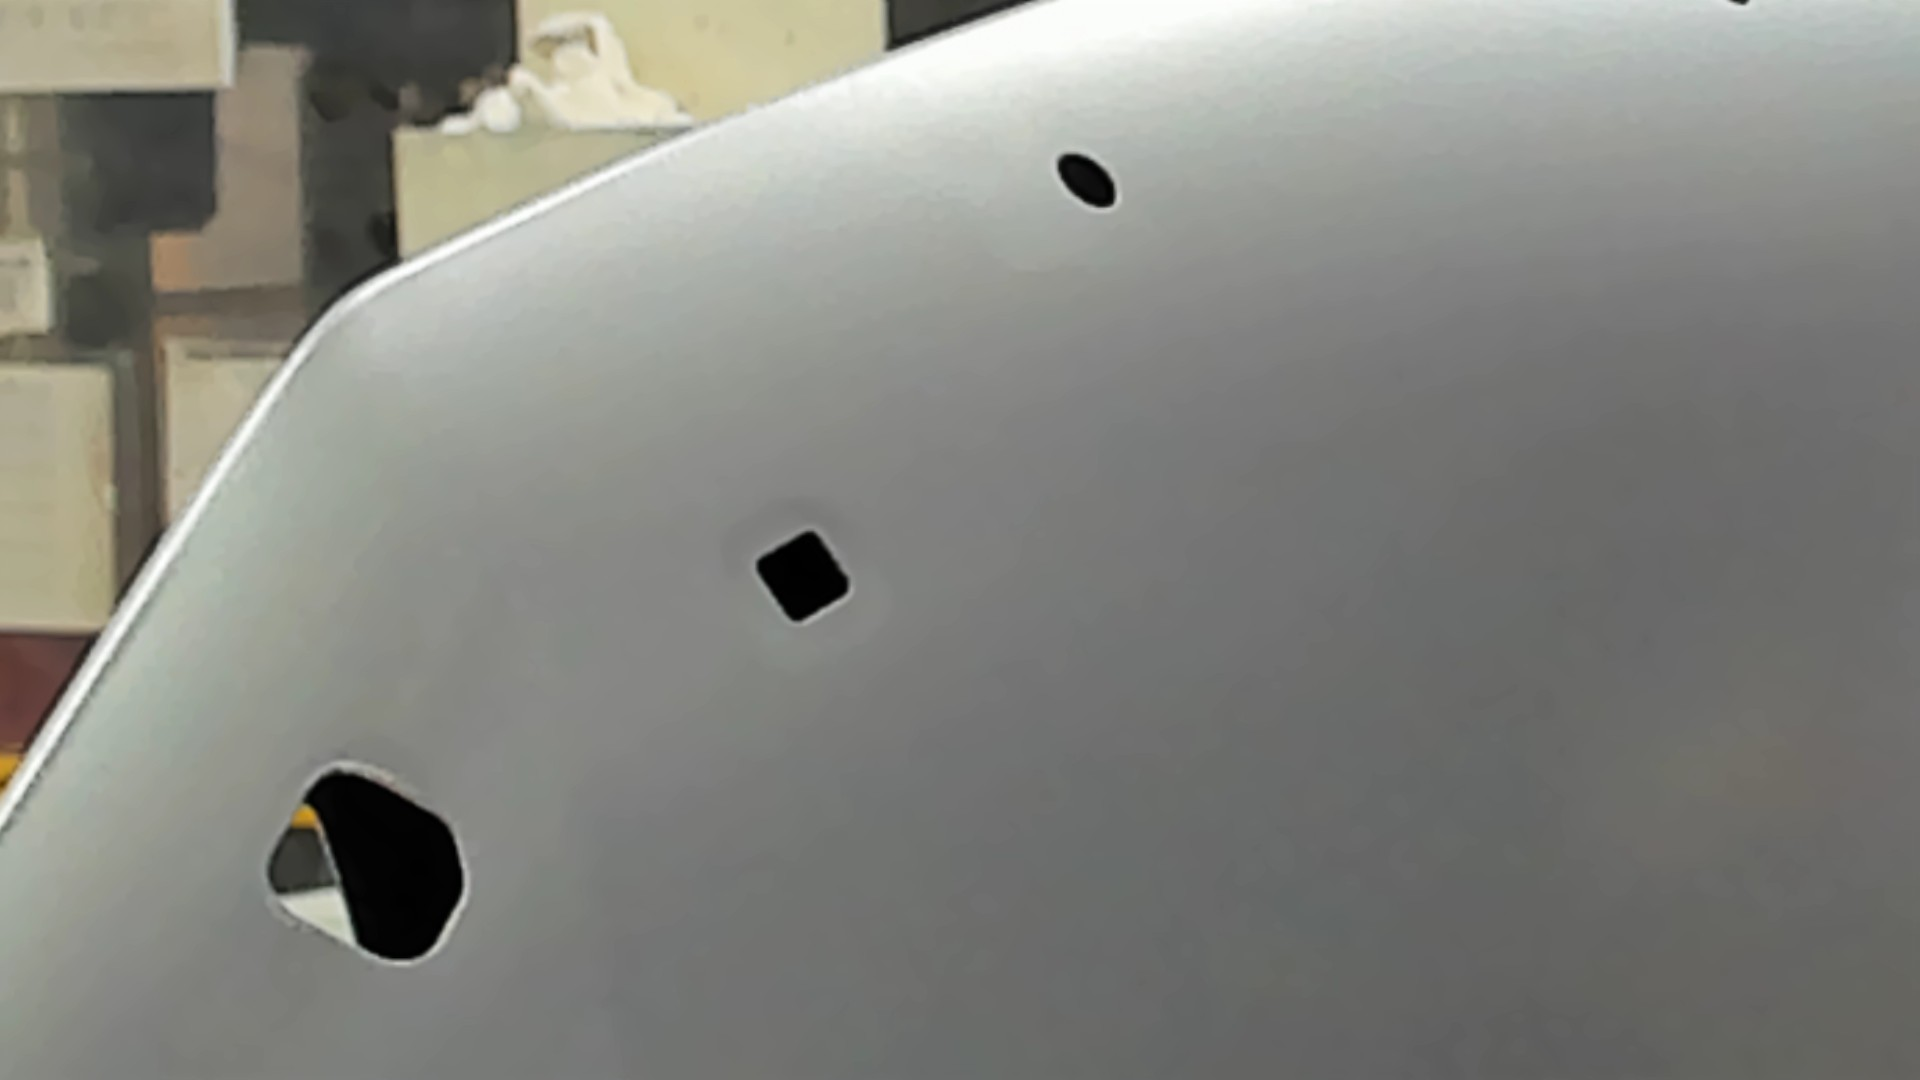chico: (1054, 150, 1118, 214)
grande: (258, 757, 472, 975)
mediano: (752, 527, 855, 624)
